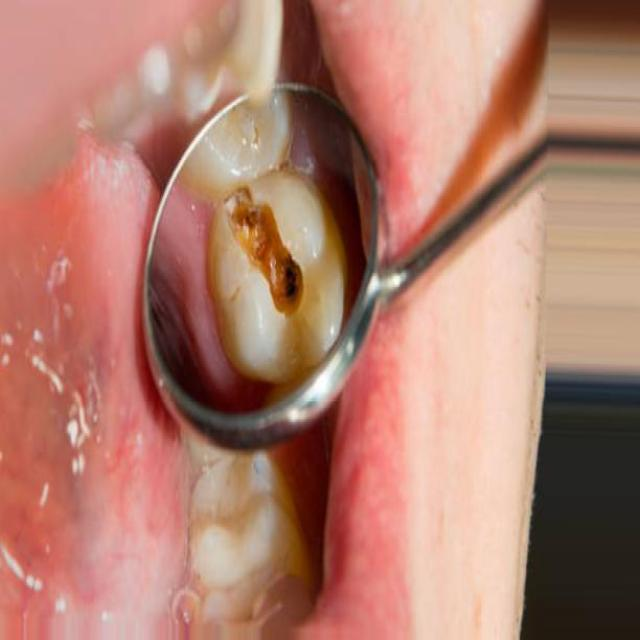caries: (223, 175, 318, 330)
